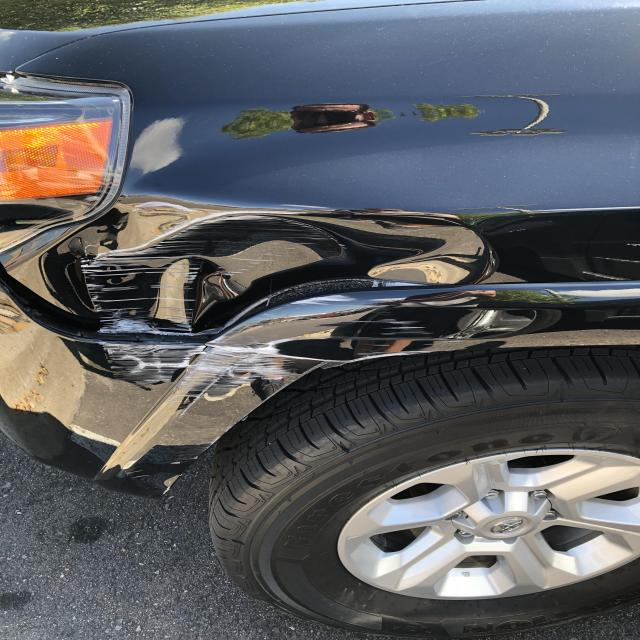dent: (89, 211, 506, 384)
scratch: (77, 196, 519, 485)
